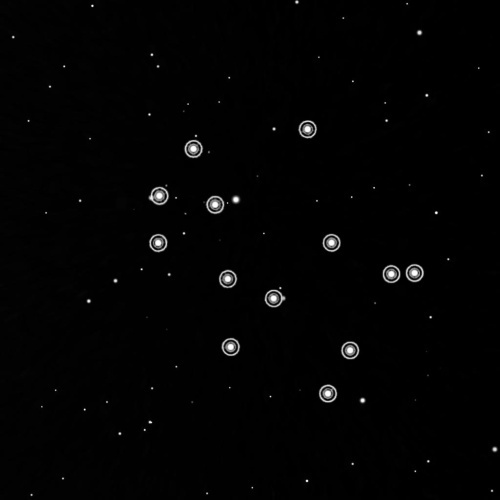gemini: (148, 120, 427, 408)
